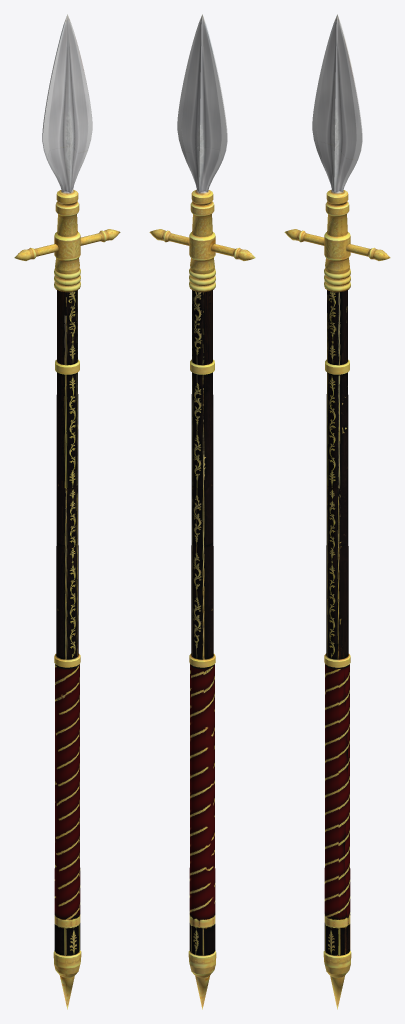
Rendered from w_spear_t3.glb.
The picture shows the model from 3 angles, left to right: view 1: azimuth 30°, elevation 25°; view 2: azimuth 150°, elevation 25°; view 3: azimuth 330°, elevation 25°; orthographic projection.
Visible parts, largest first — view 1: w_spear; view 2: w_spear; view 3: w_spear.
Part boxes in pixels (x1,y1,x2,y2): w_spear: (14, 14, 120, 1009); w_spear: (149, 14, 255, 1009); w_spear: (284, 14, 390, 1009).
Size of the model in its own units: 13.2 by 118 by 2.96.
Materials: 1 (1 with a texture image).
